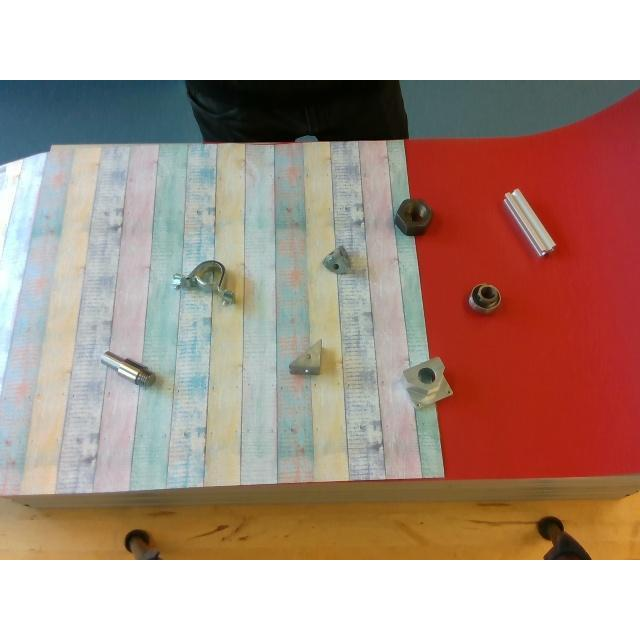Axis2: (100, 352, 156, 384)
Bearing2: (468, 283, 500, 309)
F20_20_G: (502, 188, 554, 256)
Housing: (171, 260, 235, 302)
M30: (395, 198, 431, 235)
